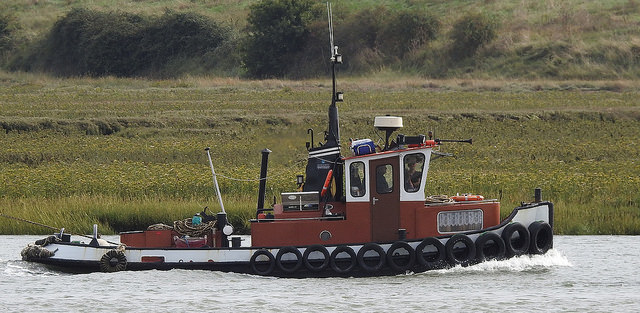tug_boat: (26, 106, 551, 280)
